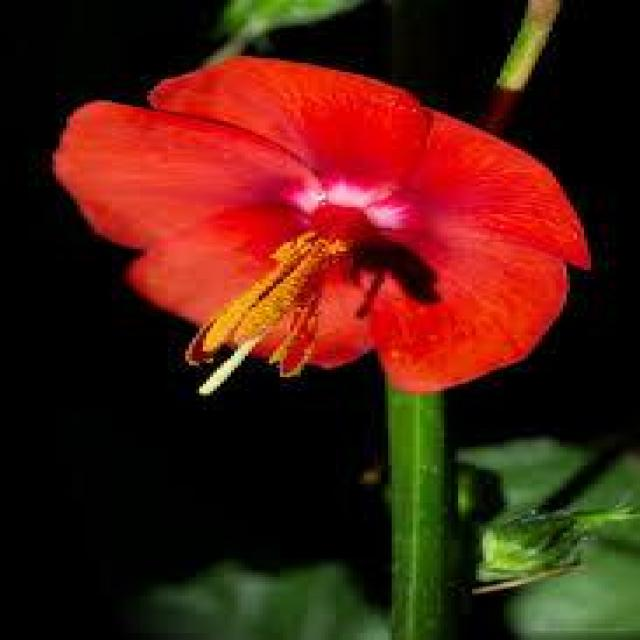organic waste: (48, 57, 590, 390)
